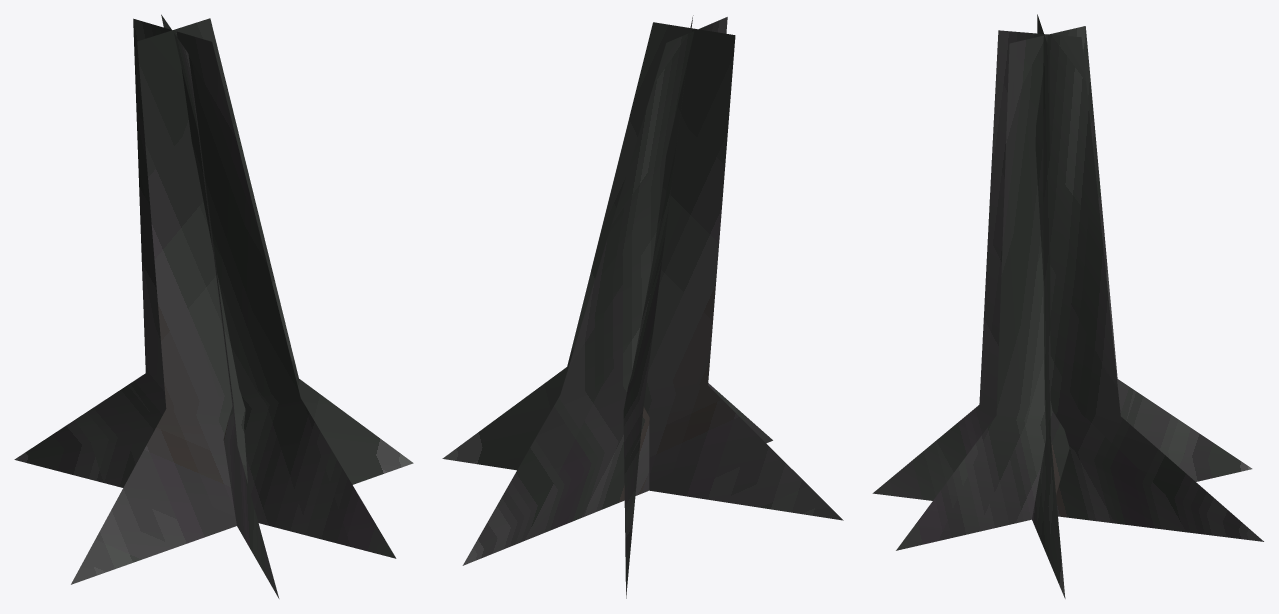
Rendered from INST_HTOWN_TREEB_LOD3.fbx.
3 views of the same model, side by side, from view 1: azimuth 30°, elevation 25°; view 2: azimuth 150°, elevation 25°; view 3: azimuth 270°, elevation 25° (orthographic). The views are drawn at different scales.
Parts seen in each view (by area): view 1: INST_HTOWN_TREEB_LOD3; view 2: INST_HTOWN_TREEB_LOD3; view 3: INST_HTOWN_TREEB_LOD3.
Boxes of the visible parts, box(x1,y1,x2,y2) form: INST_HTOWN_TREEB_LOD3: box(14, 14, 413, 598); INST_HTOWN_TREEB_LOD3: box(442, 15, 843, 598); INST_HTOWN_TREEB_LOD3: box(872, 14, 1263, 598).
Size of the model in its own units: 38242 by 48218 by 37509.
Materials: 1 (1 with a texture image).
